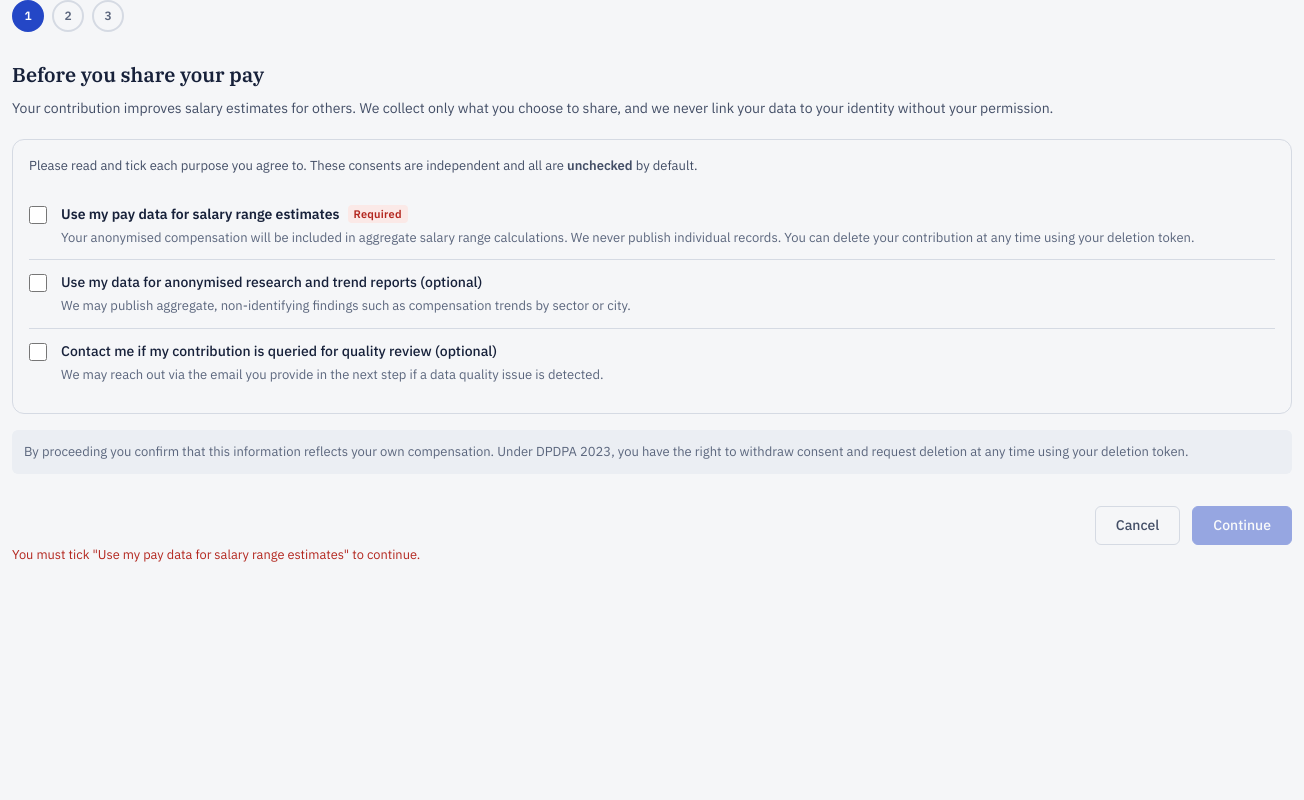
Test: ContributionFlow — Step 2: Pay › shows step 2 heading after advancing from consent
The width and height of the screenshot is (1304, 800).
Step 1. Click the 1st checkbox → {"x": 38, "y": 214}, box [29,206,47,224]
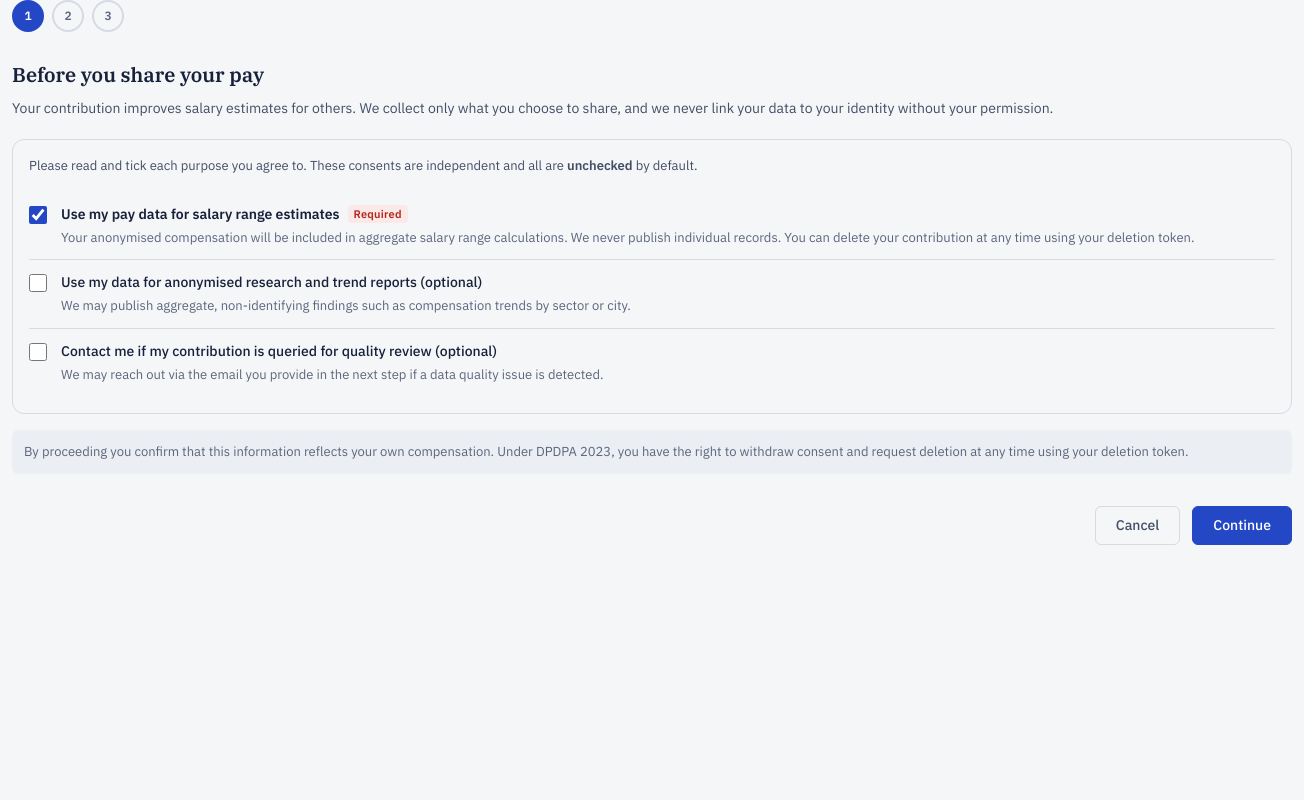
Step 2. Click the button "Continue" → {"x": 1242, "y": 525}, box [1192,506,1292,544]
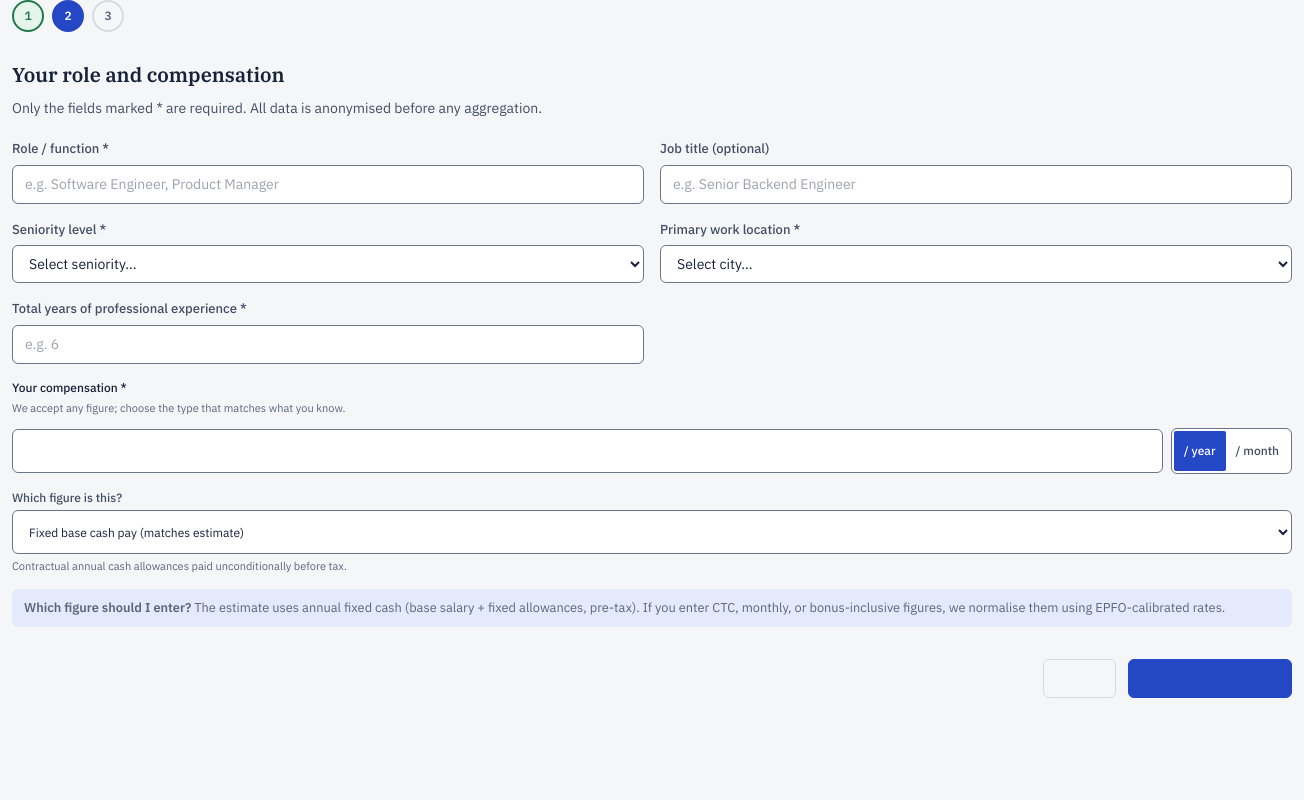
Now the heading "Your role and compensation" is shown, box [12,61,285,88]
